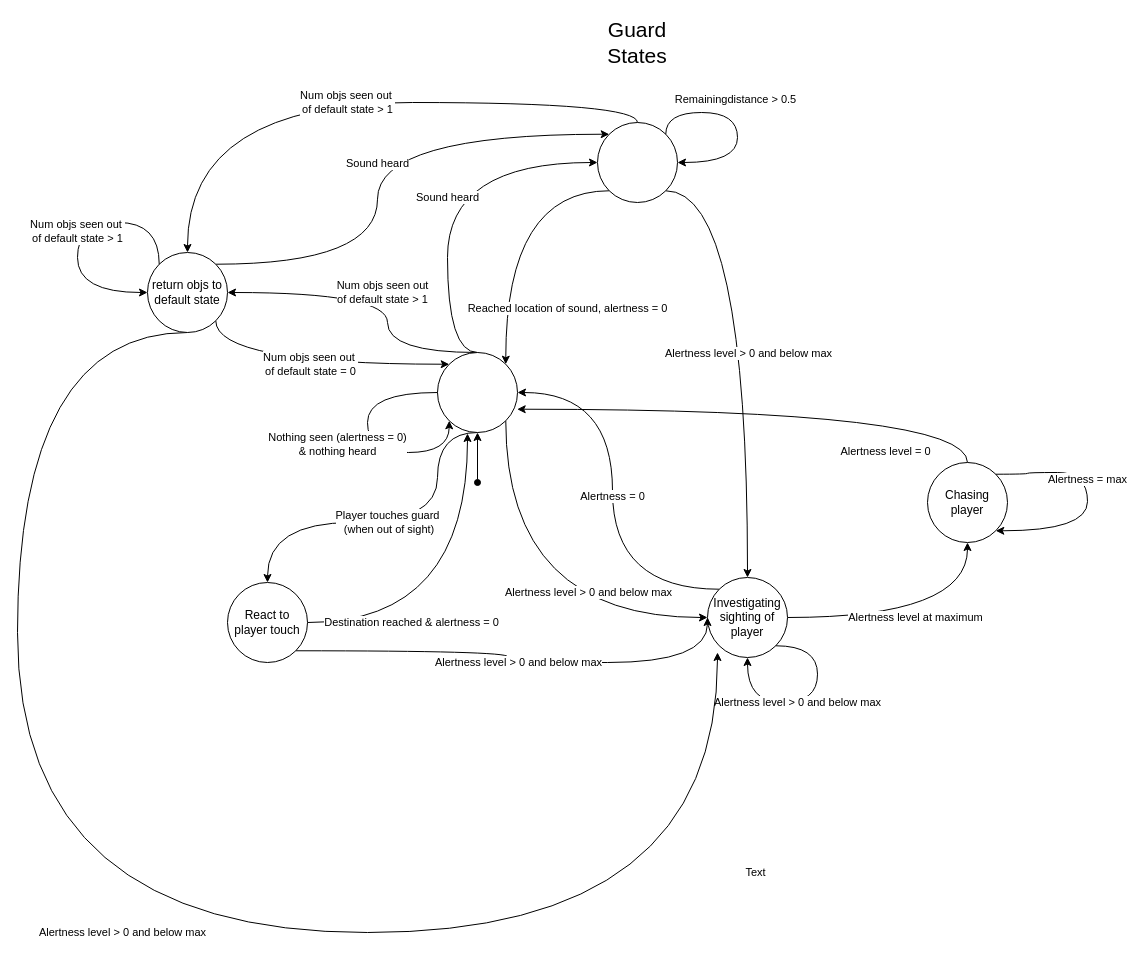
The diagram is 1144 pixels wide and 956 high, and some of its shapes have lost their labels. Here are the shapes that lost their labels. From the top down, the centre of each, then its label:
the point at 637,162: Investigating Noise
the point at 477,392: Default / go to next waypoint
